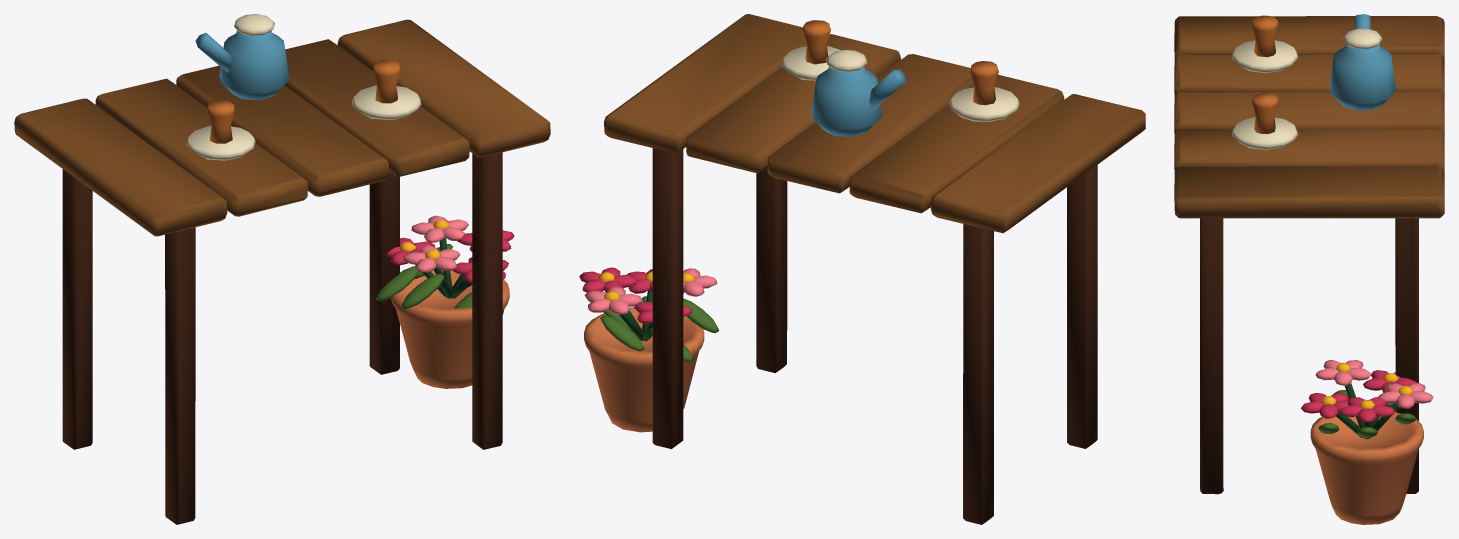
Rendered from Decor_TeaCorner.glb.
The picture shows the model from 3 angles, left to right: view 1: azimuth 30°, elevation 25°; view 2: azimuth 150°, elevation 25°; view 3: azimuth 270°, elevation 25°; orthographic projection. The views are drawn at different scales.
Visible parts, largest first — view 1: Decor_TeaCorner.001; view 2: Decor_TeaCorner.001; view 3: Decor_TeaCorner.001.
Part boxes in pixels (x1,y1,x2,y2): Decor_TeaCorner.001: [14, 14, 550, 524]; Decor_TeaCorner.001: [579, 14, 1145, 524]; Decor_TeaCorner.001: [1174, 14, 1444, 524].
Bounding box in the file's own units: 1.14 × 0.961 × 0.6083.
1 material, 1 textured.
